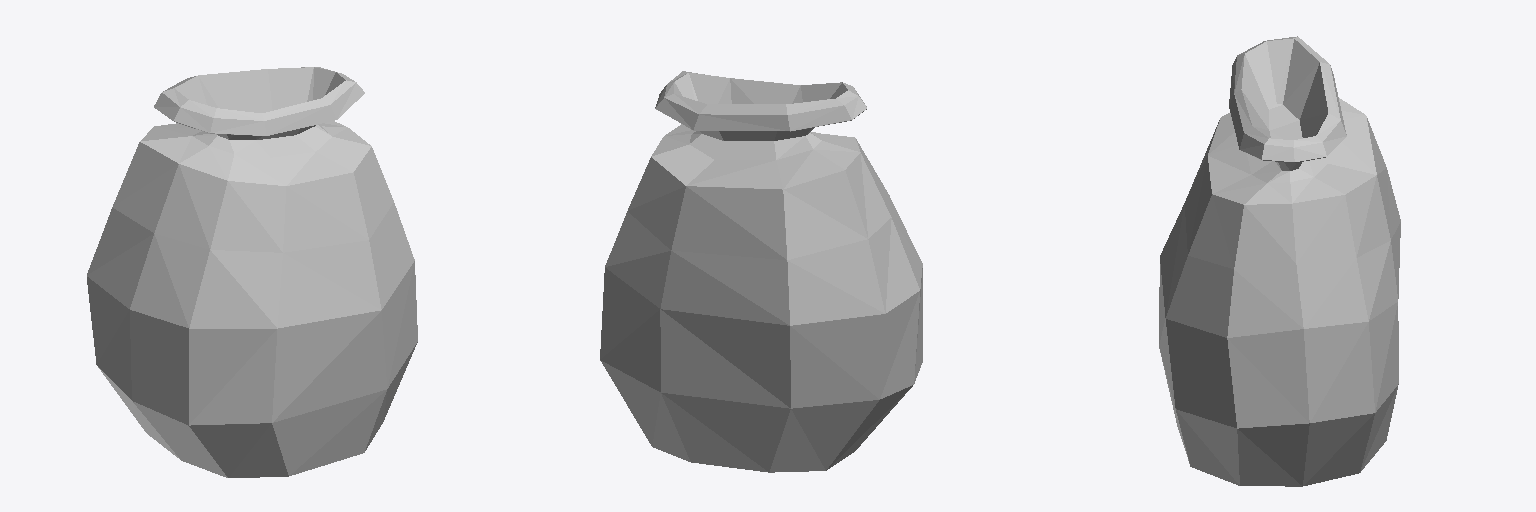
Rendered from Bag_1.obj.
3 renders of one model, left to right at view 1: azimuth 30°, elevation 25°; view 2: azimuth 150°, elevation 25°; view 3: azimuth 270°, elevation 25°, orthographic.
Parts seen in each view (by area): view 1: Bag_1; view 2: Bag_1; view 3: Bag_1.
Boxes of the visible parts, x1,y1,x2,y2 form: Bag_1: [87, 67, 417, 477]; Bag_1: [600, 71, 922, 472]; Bag_1: [1159, 36, 1400, 486].
Size of the model in its own units: 0.6812 by 0.8209 by 0.4976.